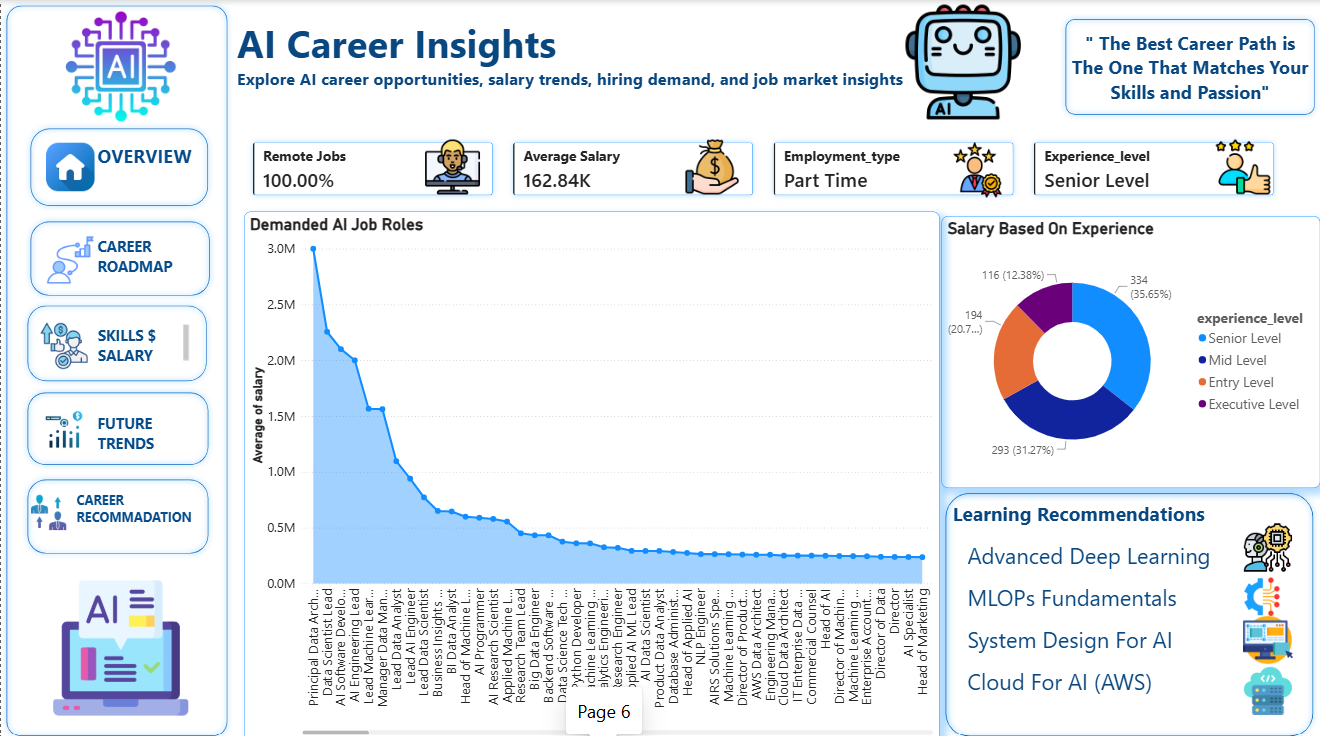

Layout of this report page (visuals, bound fields, positions):
{"tool":"powerbi","page":{"name":"Page 6","canvas":[1920,1080],"ordinal":5},"visuals":[{"type":"shape","box":[0,0,337.6,1080.8],"z":0},{"type":"image","box":[65.6,204,70.4,80.2],"z":1000},{"type":"shape","box":[34,179.7,274.5,128.7],"z":2000},{"type":"shape","box":[34,313.3,276.9,123.9],"z":3000},{"type":"shape","box":[31.6,437.2,276.9,126.3],"z":4000},{"type":"shape","box":[31.6,563.5,279.3,121.4],"z":5000},{"type":"shape","box":[31.6,689.8,279.3,123.9],"z":6000},{"type":"textbox","box":[136,337.6,172.4,80.2],"z":7000},{"type":"image","box":[65.6,337.6,70.4,80.2],"z":8000},{"type":"image","box":[48.6,466.3,87.4,72.9],"z":9000},{"type":"textbox","box":[136,466.3,143.3,72.9],"z":10000},{"type":"textbox","box":[136,204,172.4,80.2],"z":11000},{"type":"textbox","box":[136,595.1,174.9,89.9],"z":12000},{"type":"image","box":[48.6,595.1,87.4,58.3],"z":13000},{"type":"textbox","box":[104.4,709.2,206.5,72.9],"z":14000},{"type":"image","box":[43.7,709.2,51,72.9],"z":15000},{"type":"image","box":[38.9,845.2,269.6,196.7],"z":16000},{"type":"textbox","box":[337.6,0,1365,179.7],"z":17000},{"type":"image","box":[1284.9,7.3,233.2,167.6],"z":18000},{"type":"image","box":[38.9,12.1,269.6,167.6],"z":19000},{"type":"shape","box":[1542.3,19.4,378.9,155.4],"z":20000},{"type":"cardVisual","fields":{"Data":["Sum(salaries.remote_ratio)","Avg(salaries.salary)","Max(salaries.employment_type)","Max(salaries.experience_level)"]},"box":[337.6,179.7,1542.3,133.6],"z":21000},{"type":"donutChart","title":"Salary Based On Experience ","fields":{"Category":["salaries.experience_level"],"Y":["Count(salaries.Jobs)"]},"box":[1368.7,313.3,551.3,395.9],"z":22000},{"type":"stackedAreaChart","title":"Demanded AI Job Roles","fields":{"Category":["salaries.Jobs"],"Y":["Avg(salaries.salary)"]},"box":[354.6,308.5,1012.8,772.4],"z":23000},{"type":"shape","box":[1367.4,709.2,551.3,371.6],"z":24000},{"type":"textbox","box":[1401.4,782.1,478.5,259.9],"z":25000},{"type":"image","box":[1807.1,752.9,72.9,87.4],"z":26000},{"type":"image","box":[1790.1,840.4,89.9,55.9],"z":27000},{"type":"image","box":[1807.1,896.2,72.9,72.9],"z":28000},{"type":"image","box":[1807.1,969.1,72.9,72.9],"z":29000},{"type":"image","box":[602.4,204,109.3,80.2],"z":30000},{"type":"image","box":[1753.6,204,109.3,80.2],"z":31000},{"type":"image","box":[1367.4,206.5,109.3,80.2],"z":32000},{"type":"image","box":[981.3,204,109.3,80.2],"z":33000}]}

Visuals, with their boxes in screenshot pixels (x1, y1, x2, y2), scaled from the page's 1920x1080 canvas onto the 1320x736 screenshot:
shape: locate(0, 0, 232, 735)
image: locate(45, 139, 94, 194)
shape: locate(23, 122, 212, 210)
shape: locate(23, 214, 214, 298)
shape: locate(22, 298, 212, 384)
shape: locate(22, 384, 214, 467)
shape: locate(22, 470, 214, 555)
textbox: locate(94, 230, 212, 285)
image: locate(45, 230, 94, 285)
image: locate(33, 318, 94, 367)
textbox: locate(94, 318, 192, 367)
textbox: locate(94, 139, 212, 194)
textbox: locate(94, 406, 214, 467)
image: locate(33, 406, 94, 445)
textbox: locate(72, 483, 214, 533)
image: locate(30, 483, 65, 533)
image: locate(27, 576, 212, 710)
textbox: locate(232, 0, 1171, 122)
image: locate(883, 5, 1044, 119)
image: locate(27, 8, 212, 122)
shape: locate(1060, 13, 1319, 119)
cardVisual - Sum(salaries.remote_ratio) x Avg(salaries.salary): locate(232, 122, 1292, 214)
"Salary Based On Experience " donutChart: locate(941, 214, 1319, 483)
"Demanded AI Job Roles" stackedAreaChart: locate(244, 210, 940, 735)
shape: locate(940, 483, 1319, 735)
textbox: locate(963, 533, 1292, 710)
image: locate(1242, 513, 1292, 573)
image: locate(1231, 573, 1292, 611)
image: locate(1242, 611, 1292, 660)
image: locate(1242, 660, 1292, 710)
image: locate(414, 139, 489, 194)
image: locate(1206, 139, 1281, 194)
image: locate(940, 141, 1015, 195)
image: locate(675, 139, 750, 194)
